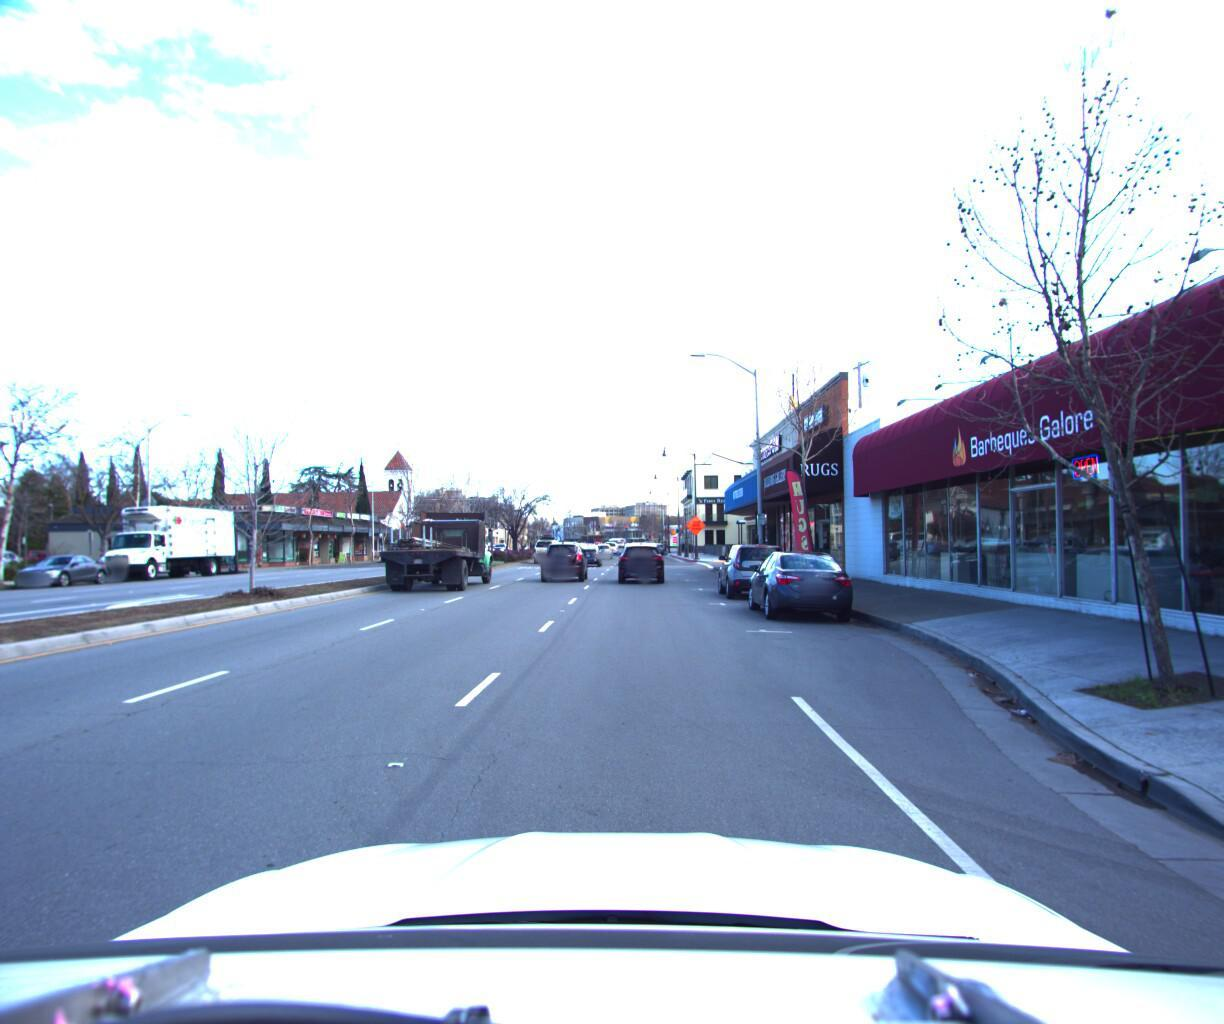car: (740, 541, 865, 624), (715, 535, 791, 597), (3, 549, 120, 588), (617, 536, 668, 582), (538, 536, 590, 580), (3, 543, 78, 569), (531, 532, 561, 562), (572, 538, 602, 563), (596, 539, 615, 556)
truck: (79, 500, 246, 581), (374, 494, 505, 593)
